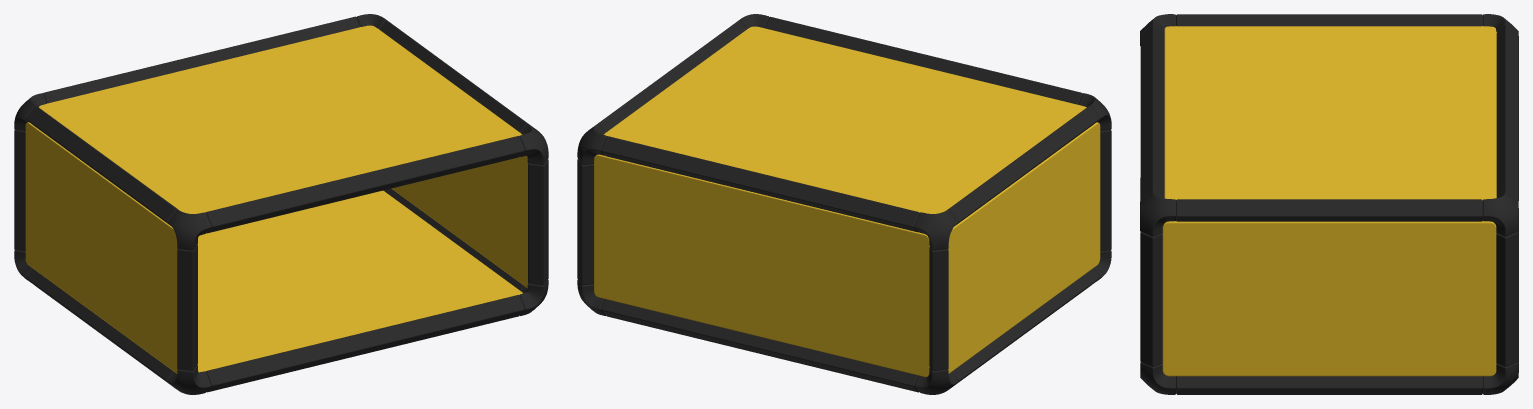
The picture shows the model from 3 angles, left to right: view 1: azimuth 30°, elevation 25°; view 2: azimuth 150°, elevation 25°; view 3: azimuth 270°, elevation 25°; orthographic projection. The views are drawn at different scales.
Parts seen in each view (by area): view 1: 420x329x154; view 2: 420x329x154; view 3: 420x329x154.
Boxes of the visible parts, box(x1,y1,x2,y2) form: 420x329x154: box(14, 14, 548, 394); 420x329x154: box(577, 14, 1111, 394); 420x329x154: box(1140, 14, 1518, 394).
Size of the model in its own units: 0.4977 by 0.2317 by 0.4063.
